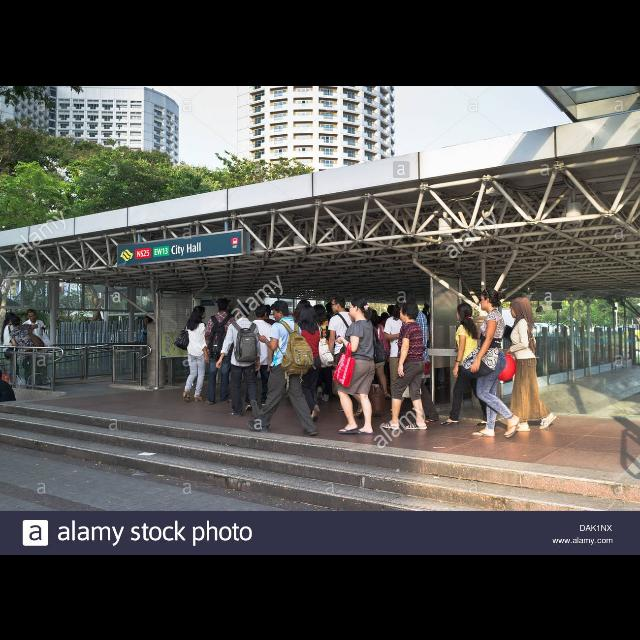head: (480, 287, 500, 311), (510, 296, 530, 318), (348, 296, 368, 318), (272, 300, 290, 322), (456, 302, 474, 320), (300, 304, 316, 324), (330, 296, 346, 314), (400, 290, 416, 306), (396, 296, 412, 312), (394, 302, 408, 318), (254, 304, 268, 318), (258, 302, 272, 316), (298, 298, 310, 314), (238, 301, 250, 317), (314, 304, 326, 318), (195, 305, 207, 319), (367, 310, 379, 322), (218, 298, 230, 310), (27, 308, 37, 322), (10, 316, 22, 326), (6, 311, 16, 323), (0, 368, 6, 379)
person: (246, 298, 320, 436), (461, 286, 523, 440), (492, 296, 560, 430), (381, 289, 441, 425), (439, 299, 497, 426), (331, 294, 377, 436), (379, 300, 429, 430), (288, 303, 336, 423), (215, 300, 262, 420), (382, 294, 421, 416), (326, 294, 364, 412), (285, 298, 321, 402), (242, 302, 276, 411), (203, 296, 237, 404), (173, 304, 210, 402), (306, 304, 338, 402), (10, 315, 48, 391), (252, 304, 282, 398), (362, 308, 392, 400), (20, 308, 54, 387), (1, 310, 23, 386), (0, 367, 18, 427)
